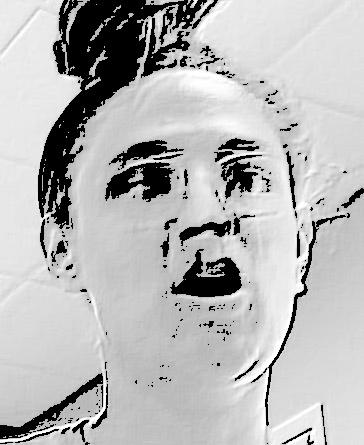nose_M_C: (174, 174, 235, 252)
